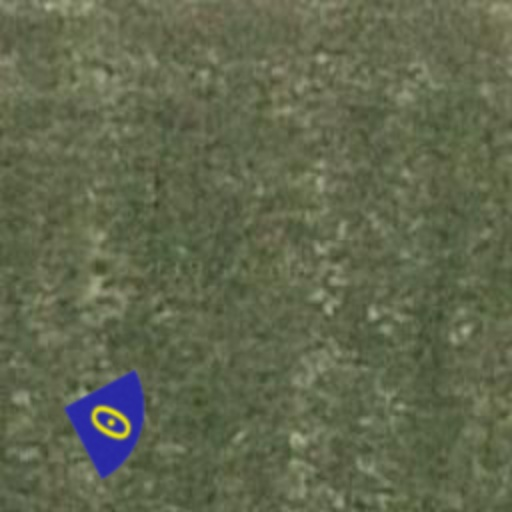quarter_circle: (42, 354, 178, 490)
